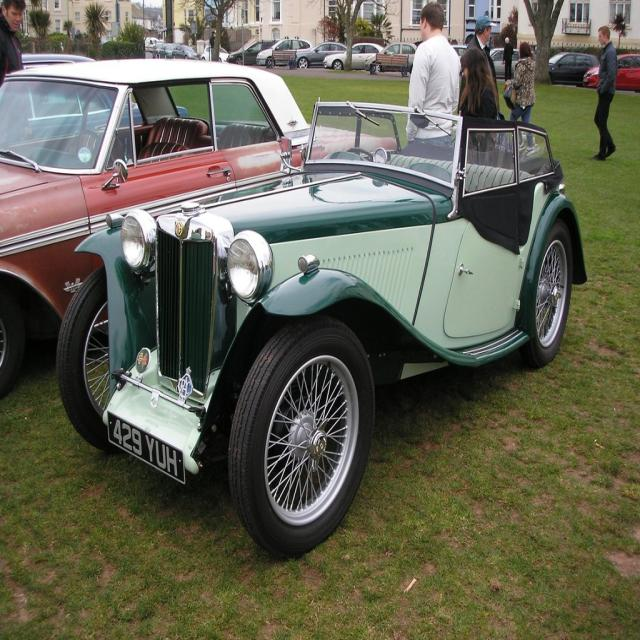Car: (52, 95, 587, 555), (0, 56, 398, 396), (144, 37, 639, 90), (2, 53, 188, 147)
